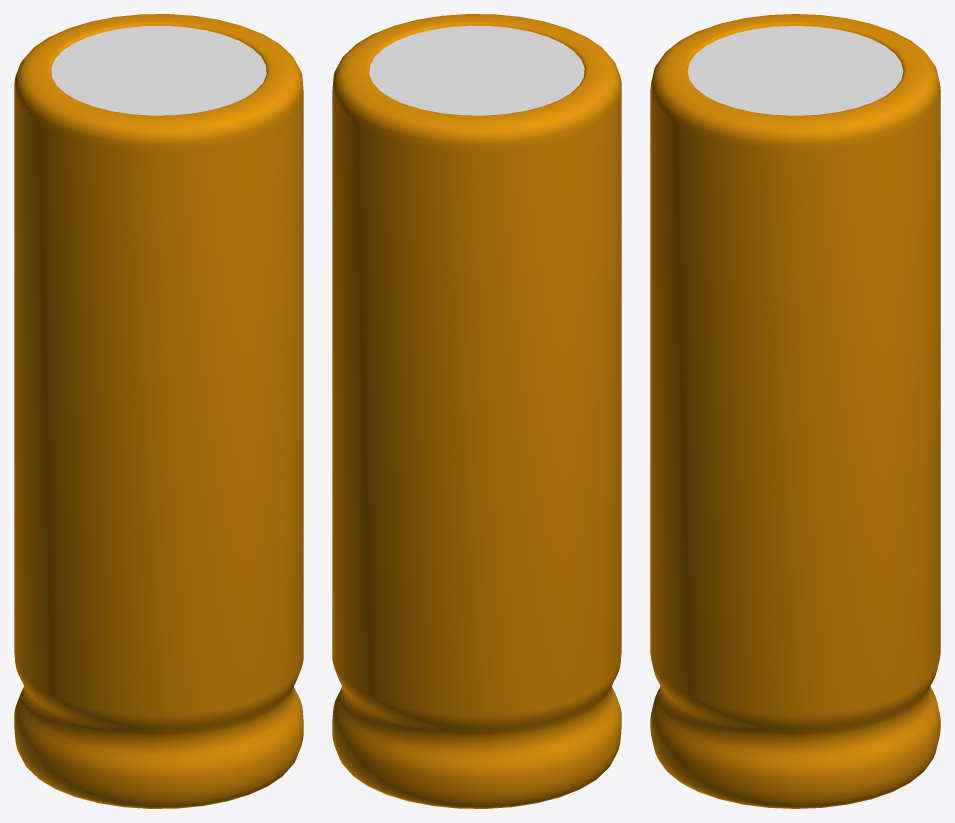
Rendered from Capacitator_1.fbx.
The picture shows the model from 3 angles, left to right: view 1: azimuth 30°, elevation 25°; view 2: azimuth 150°, elevation 25°; view 3: azimuth 270°, elevation 25°; orthographic projection.
Parts seen in each view (by area): view 1: Capacitator_1; view 2: Capacitator_1; view 3: Capacitator_1.
Boxes of the visible parts, x1,y1,x2,y2 form: Capacitator_1: (14, 14, 303, 808); Capacitator_1: (332, 14, 621, 808); Capacitator_1: (650, 14, 940, 808).
Size of the model in its own units: 154 by 400 by 154.
